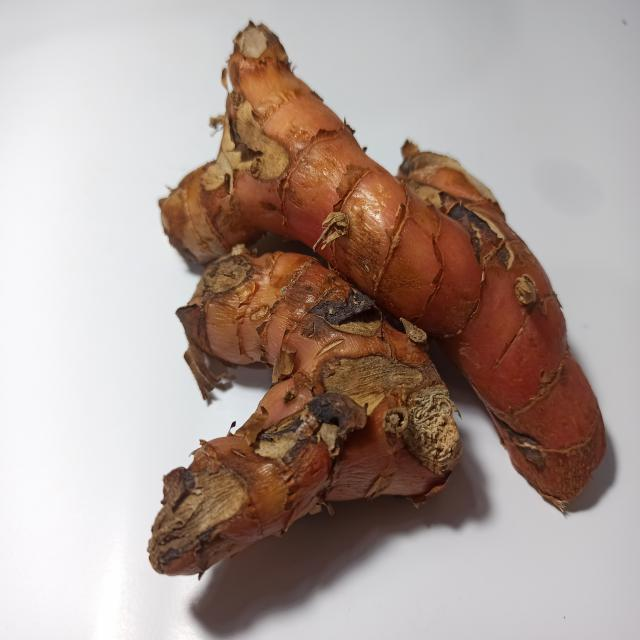ginger: (133, 29, 568, 550)
